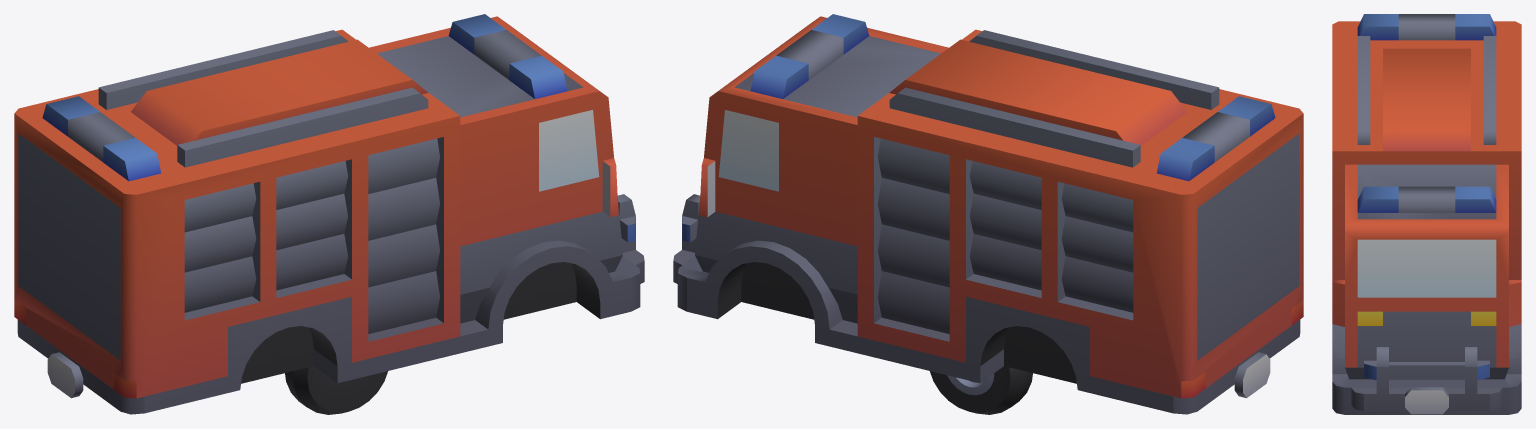
File: firetruck.glb
The picture shows the model from 3 angles, left to right: view 1: azimuth 30°, elevation 25°; view 2: azimuth 150°, elevation 25°; view 3: azimuth 270°, elevation 25°; orthographic projection. The views are drawn at different scales.
Parts seen in each view (by area): view 1: body, wheel; view 2: body, wheel; view 3: body.
Part boxes in pixels (x1,y1,x2,y2): body: [14, 14, 644, 414]; wheel: [285, 366, 387, 414]; body: [673, 14, 1303, 414]; wheel: [930, 366, 1032, 414]; body: [1332, 14, 1521, 414].
Size of the model in its own units: 6.4 by 3.76 by 2.37.
